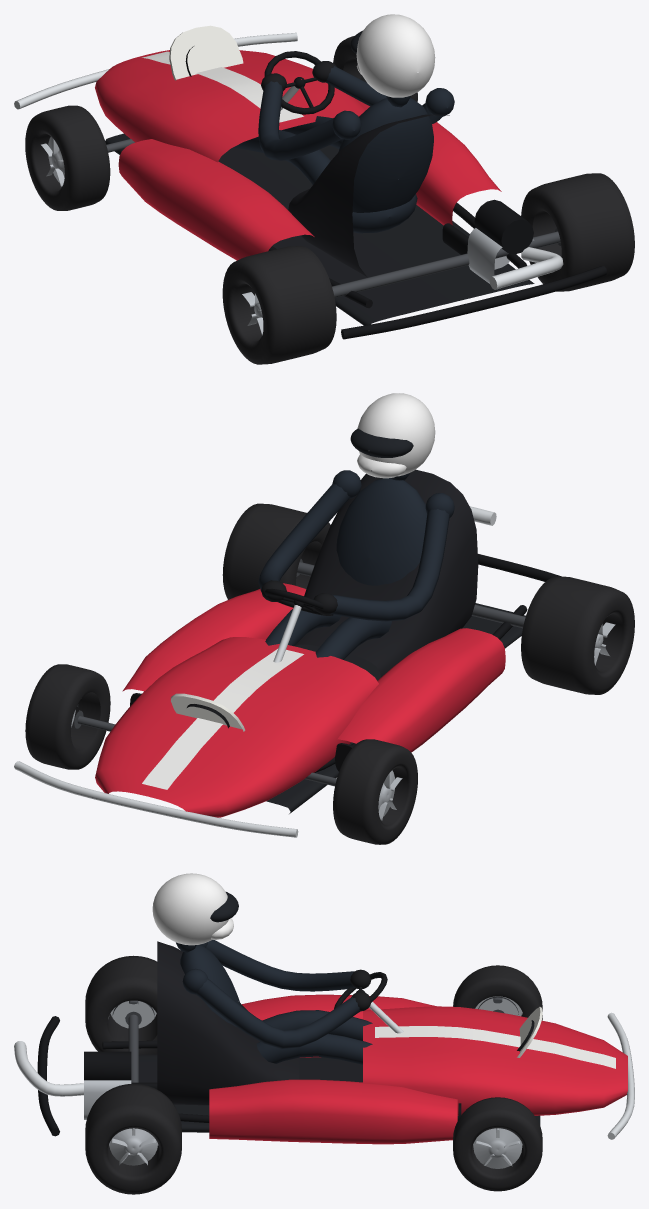
File: go-kart.6d4480a2.glb
The picture shows the model from 3 angles, top to bottom: view 1: azimuth 30°, elevation 25°; view 2: azimuth 150°, elevation 25°; view 3: azimuth 270°, elevation 25°; orthographic projection. The views are drawn at different scales.
Parts seen in each view (by area): view 1: chassis, wheel_rl, wheel_rr, wheel_fl, steer_wheel, wheel_fr; view 2: chassis, wheel_rl, wheel_fl, wheel_fr, wheel_rr, steer_wheel; view 3: chassis, wheel_rr, wheel_fr, wheel_rl, wheel_fl.
Part boxes in pixels (x1,y1,x2,y2): chassis: [14, 14, 607, 339]; wheel_rl: [222, 246, 336, 364]; wheel_rr: [521, 173, 634, 291]; wheel_fl: [25, 105, 110, 210]; steer_wheel: [264, 51, 334, 114]; wheel_fr: [333, 36, 417, 101]; chassis: [14, 393, 561, 837]; wheel_rl: [521, 576, 634, 694]; wheel_fl: [333, 739, 417, 844]; wheel_fr: [25, 664, 110, 769]; wheel_rr: [222, 503, 330, 599]; steer_wheel: [264, 588, 333, 615]; chassis: [14, 873, 634, 1144]; wheel_rr: [85, 1083, 181, 1194]; wheel_fr: [453, 1097, 542, 1191]; wheel_rl: [85, 955, 157, 1054]; wheel_fl: [453, 965, 542, 1020].
Bounding box in the file's own units: 1.57 × 1.13 × 2.63.
